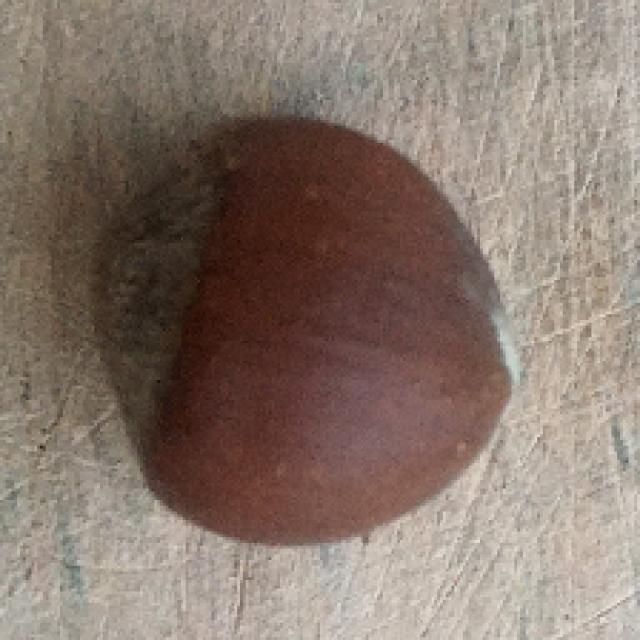damagedHazelnut: (80, 103, 522, 553)
